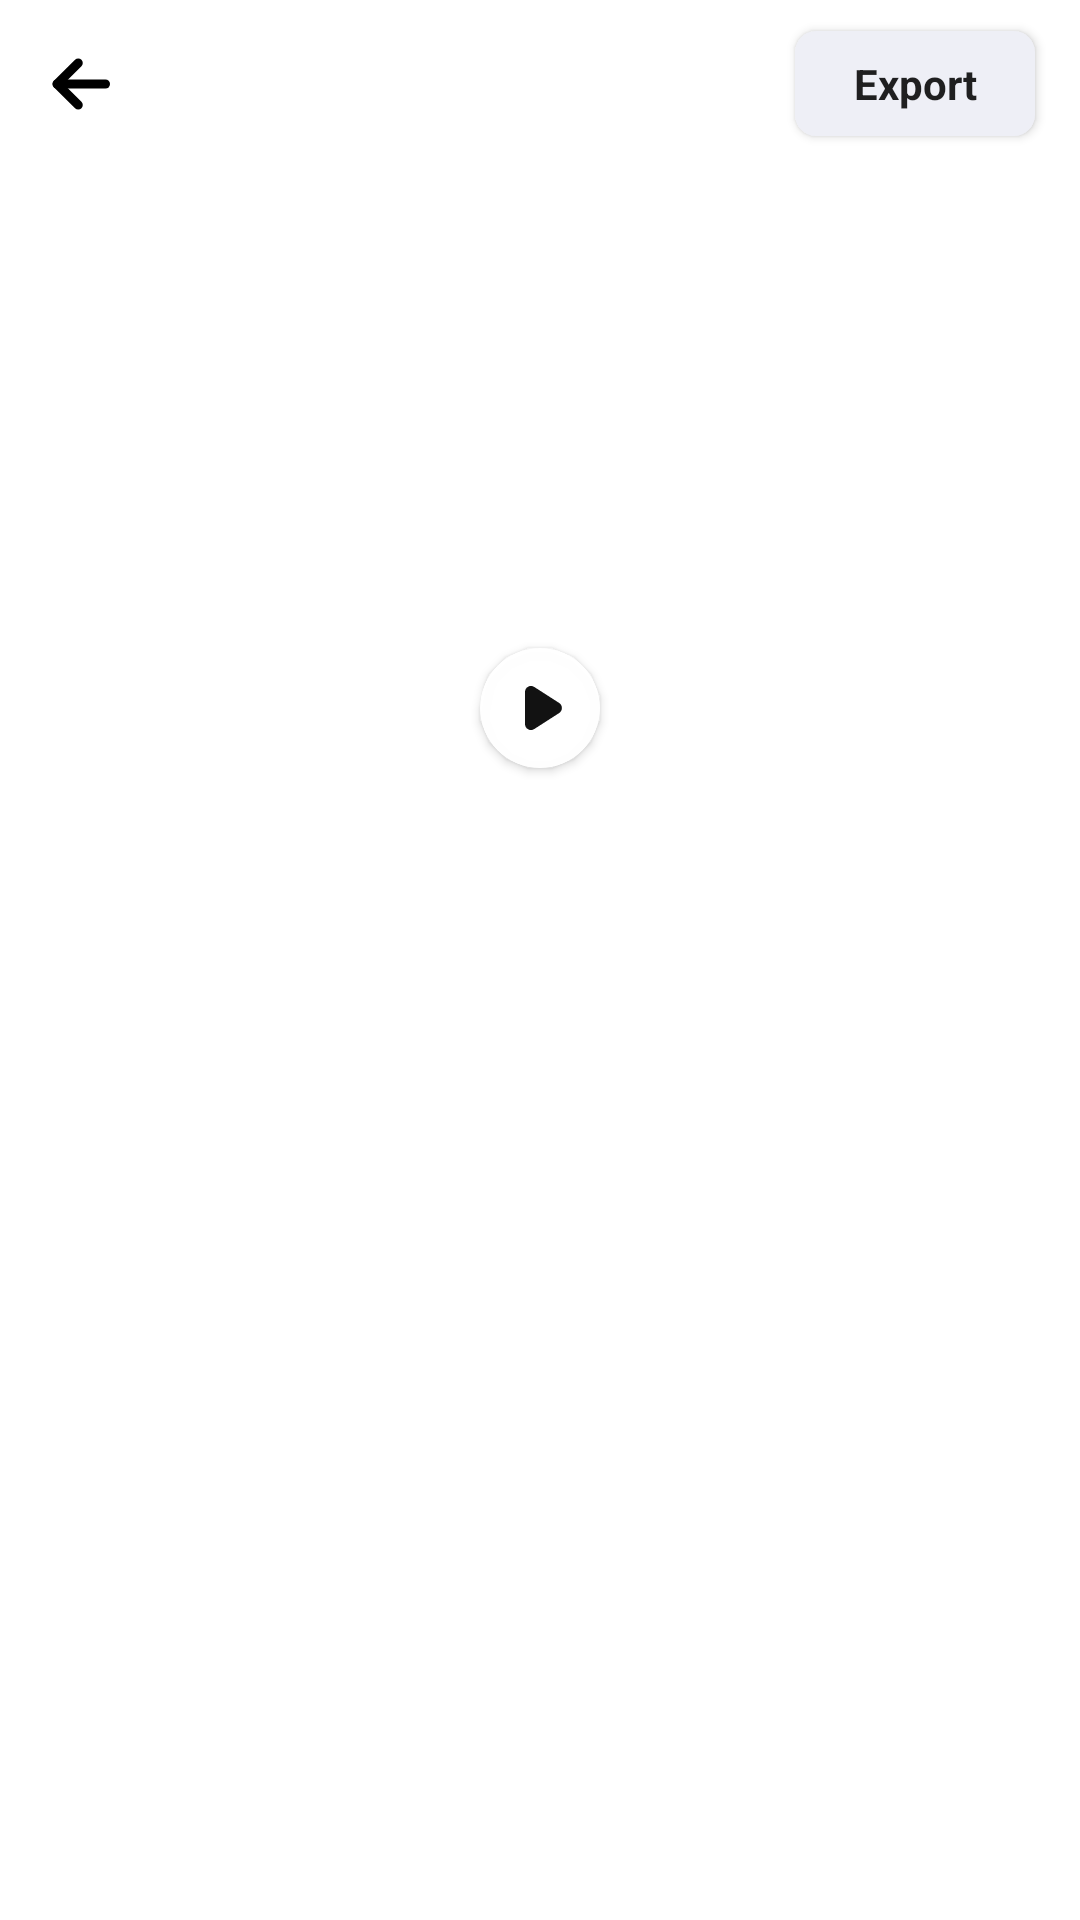

Where to tap for icons on this 1080w x 1920h app screen, as (x,y):
back: (81,84)
play: (540,727)
